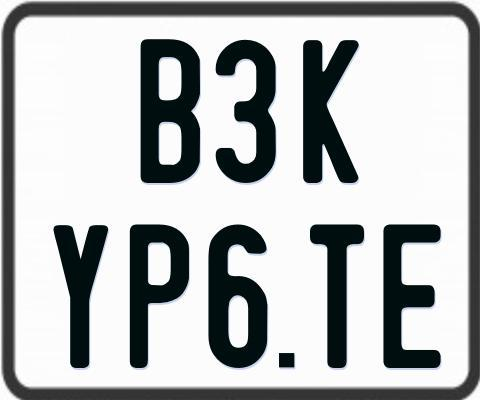3: (216, 40, 281, 184)
6: (207, 225, 267, 368)
B: (141, 38, 201, 183)
E: (381, 222, 439, 367)
K: (303, 40, 359, 185)
P: (129, 223, 192, 368)
T: (308, 225, 366, 370)
Y: (51, 222, 109, 370)
